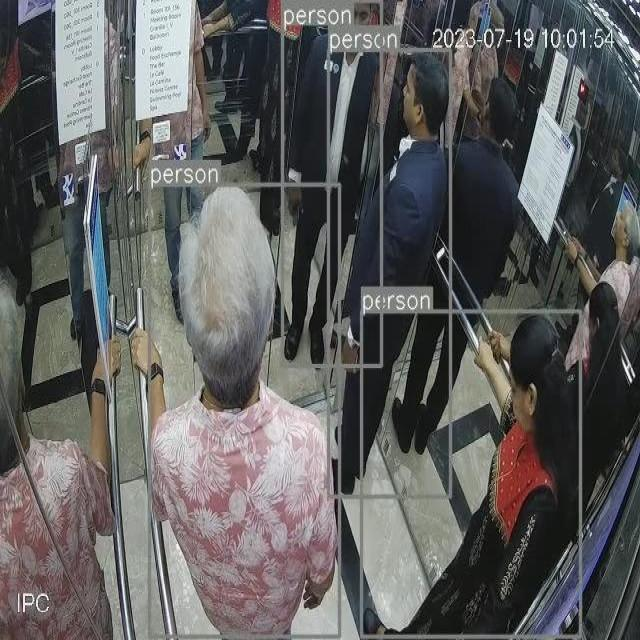person: (148, 184, 339, 636), (362, 316, 579, 637), (331, 54, 454, 502), (0, 274, 128, 640), (286, 4, 382, 369)
